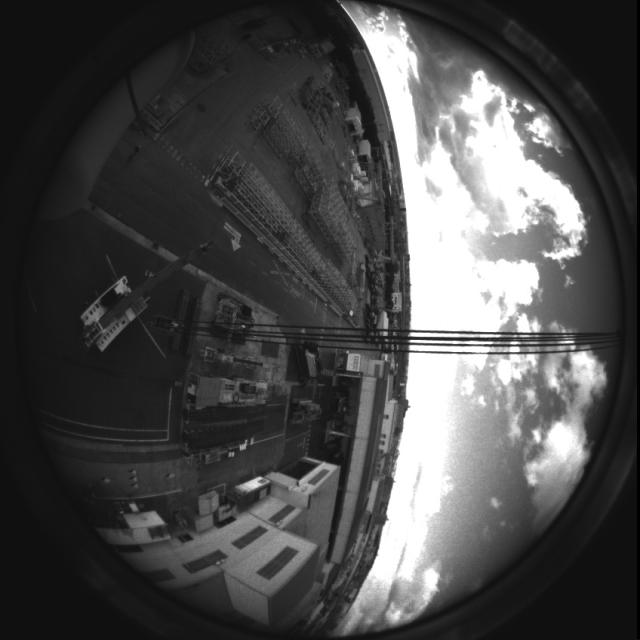rope: (129, 306, 636, 354)
sky: (322, 2, 620, 637)
